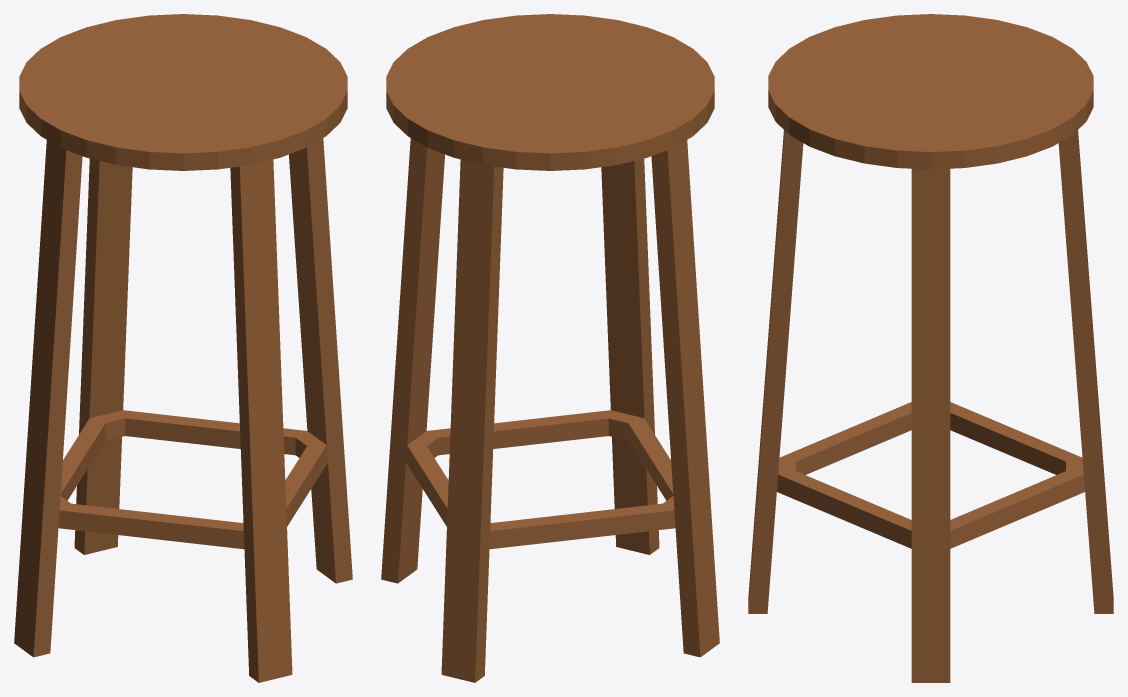
File: woodenStool.glb
3 renders of one model, left to right at view 1: azimuth 30°, elevation 25°; view 2: azimuth 150°, elevation 25°; view 3: azimuth 270°, elevation 25°, orthographic.
Visible parts, largest first — view 1: Node; view 2: Node; view 3: Node.
Boxes of the visible parts, x1,y1,x2,y2 form: Node: [14, 14, 352, 682]; Node: [381, 14, 719, 682]; Node: [748, 14, 1113, 682].
Size of the model in its own units: 19 by 30 by 19.
